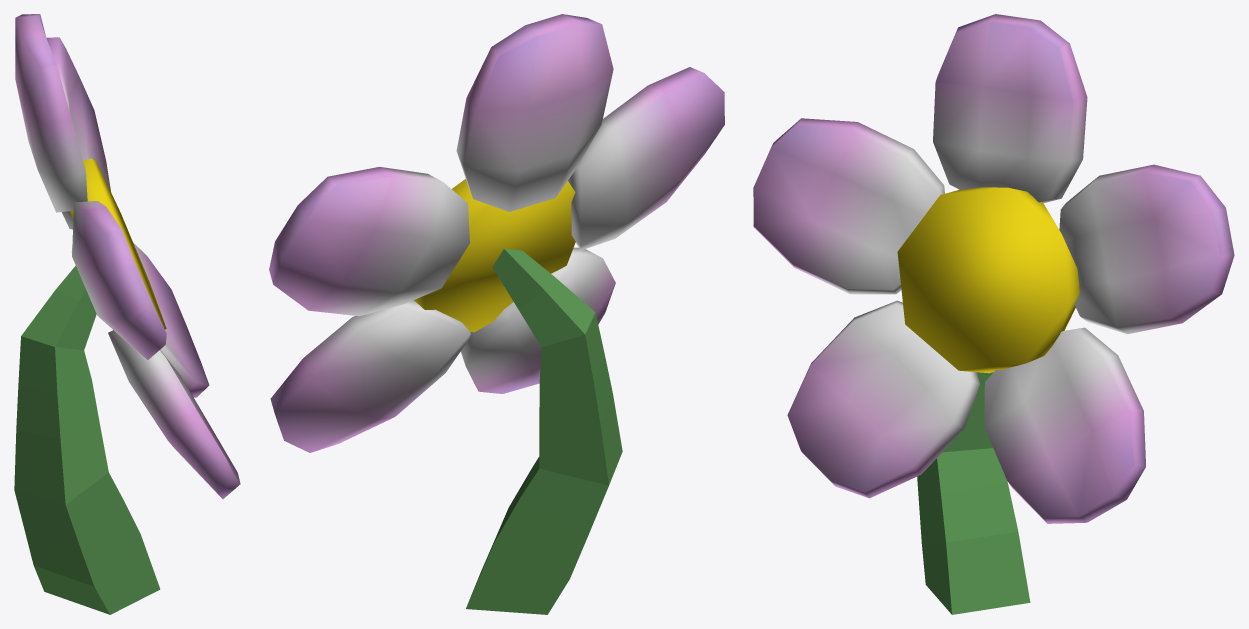
The model's file is flower.fbx.
The picture shows the model from 3 angles, left to right: view 1: azimuth 30°, elevation 25°; view 2: azimuth 150°, elevation 25°; view 3: azimuth 270°, elevation 25°; orthographic projection. The views are drawn at different scales.
Parts seen in each view (by area): view 1: Cube.001, Plane; view 2: Cube.001, Plane; view 3: Cube.001, Plane.
Part boxes in pixels (<box>): Cube.001: <box>15,14,240,499</box>; Plane: <box>14,265,160,614</box>; Cube.001: <box>269,14,724,452</box>; Plane: <box>466,249,622,614</box>; Cube.001: <box>753,14,1234,523</box>; Plane: <box>917,372,1030,614</box>.
Bounding box in the file's own units: 45.44 × 99.06 × 78.72.
